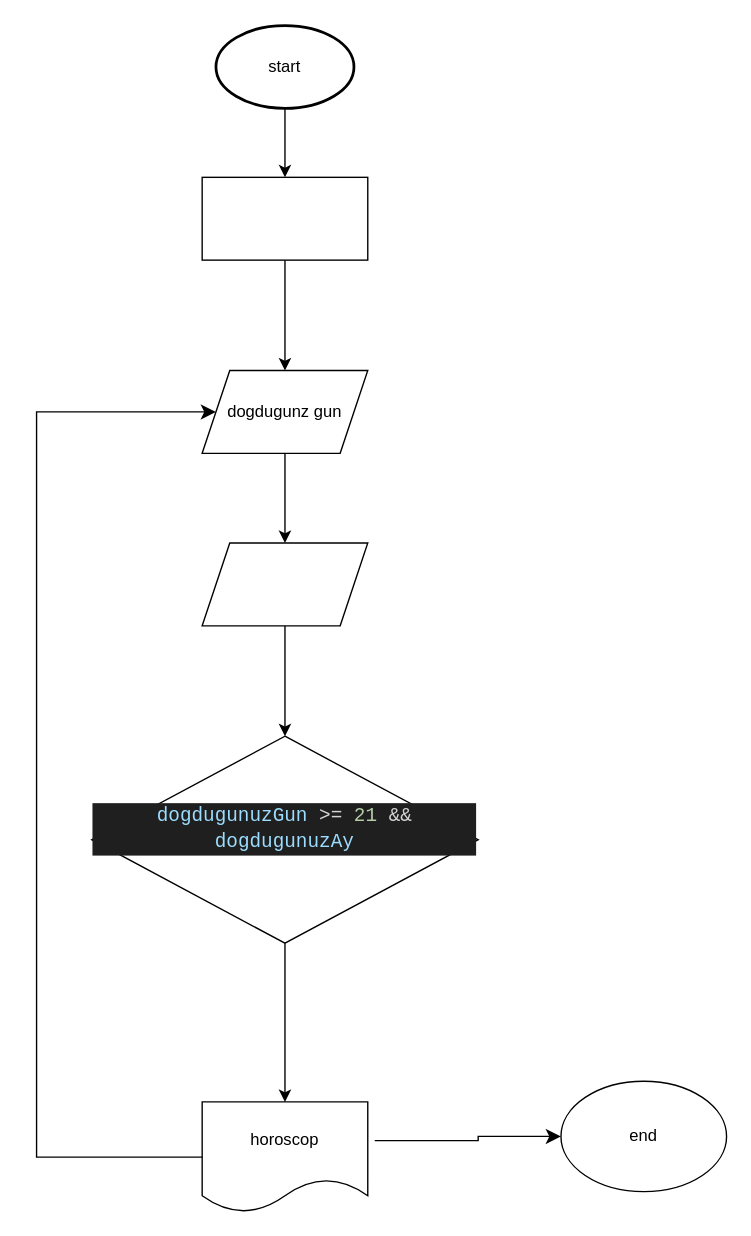
This 751x1236 diagram has some shape labels left out. Each missing label, with the centre of its shape:
"dogdugunuz ay" belongs at [284,584].
"let horoscope" belongs at [284,218].
